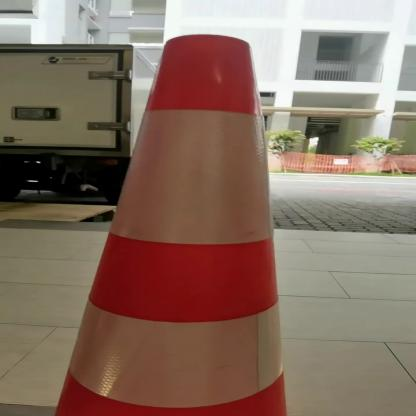cone: (52, 33, 286, 415)
